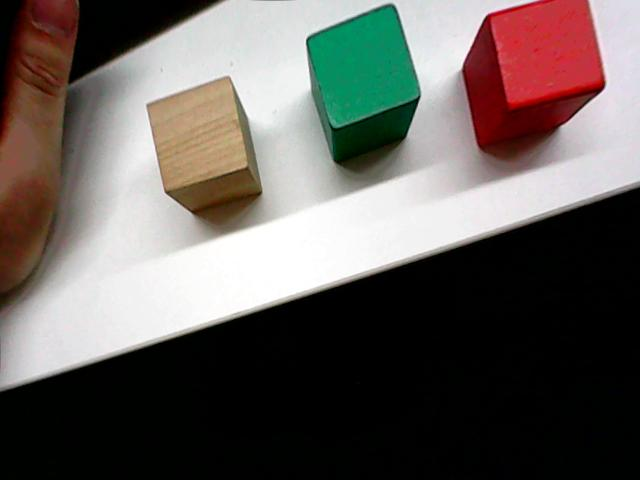green_box: (302, 3, 423, 164)
raw_box: (142, 72, 265, 214)
red_box: (458, 0, 608, 150)
